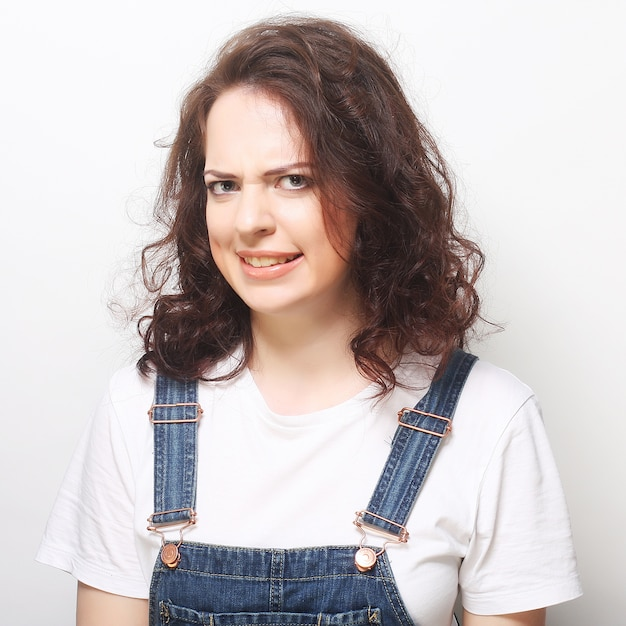teen: (170, 25, 396, 345)
